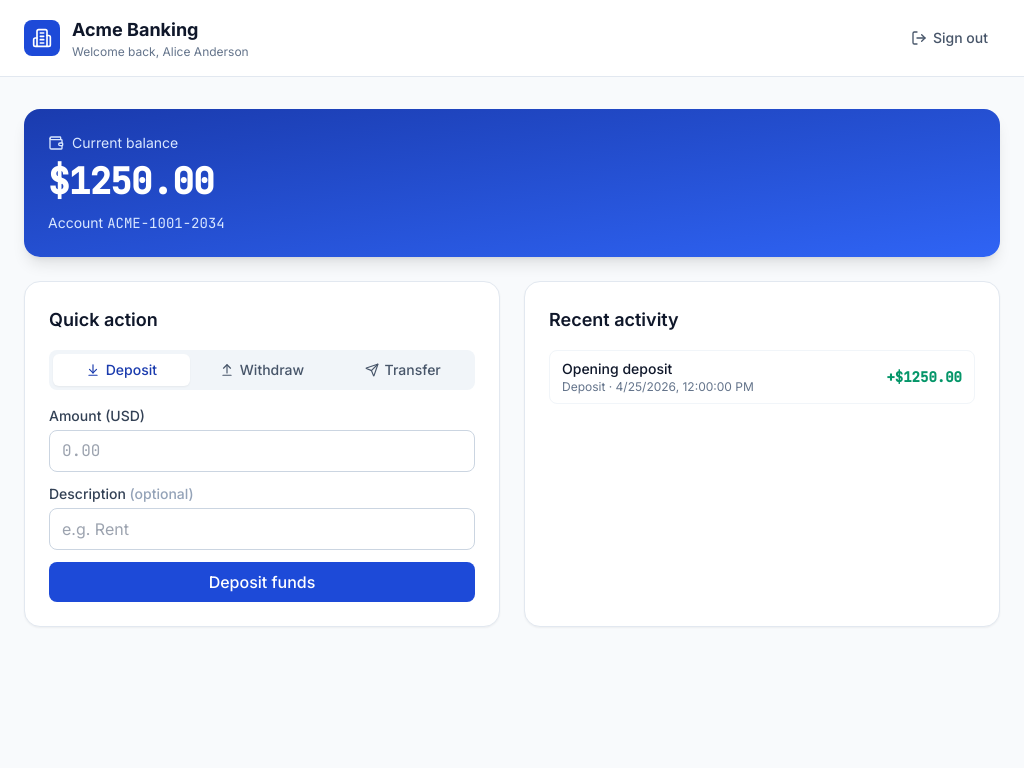
Test: <Dashboard /> tab switching › reveals the recipient input only on the Transfer tab
Check: the text "Opening deposit" is shown, box [562,360,672,377]
Check: the field labelled "recipient account" is not shown
Click the button "Transfer". click: coordinates (403, 370)
box: [334,354,471,386]
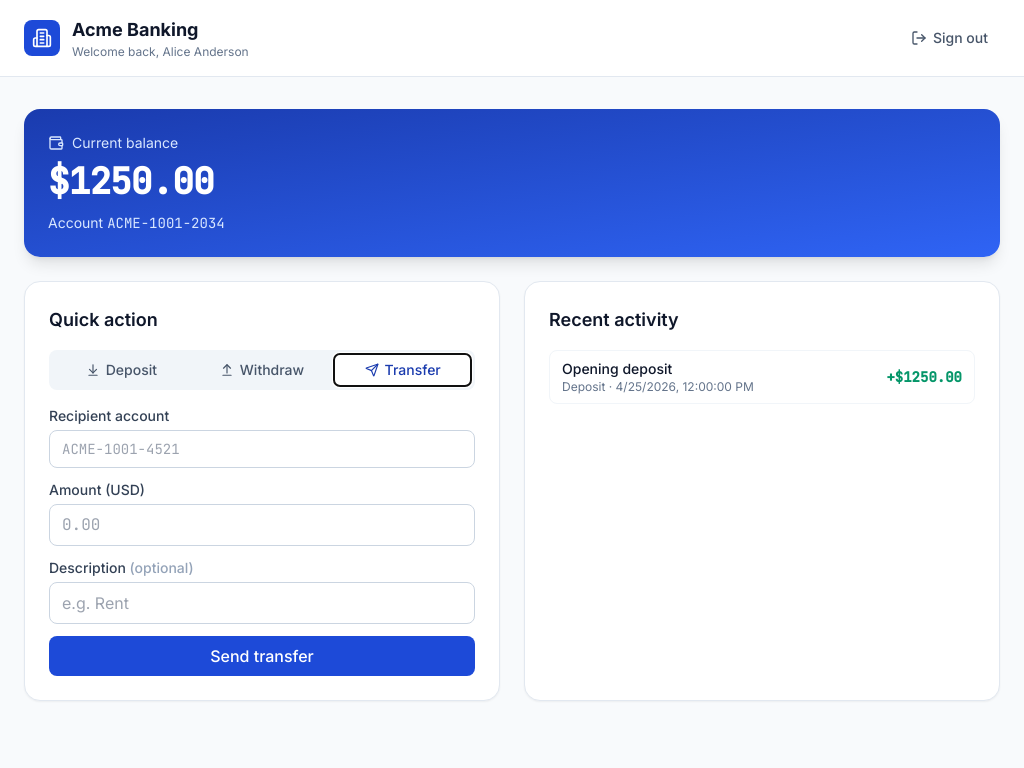
Check: the field labelled "Recipient account" is shown, box [49,430,475,468]
Click the button "Deposit". click: coordinates (121, 370)
box: [53,354,190,386]
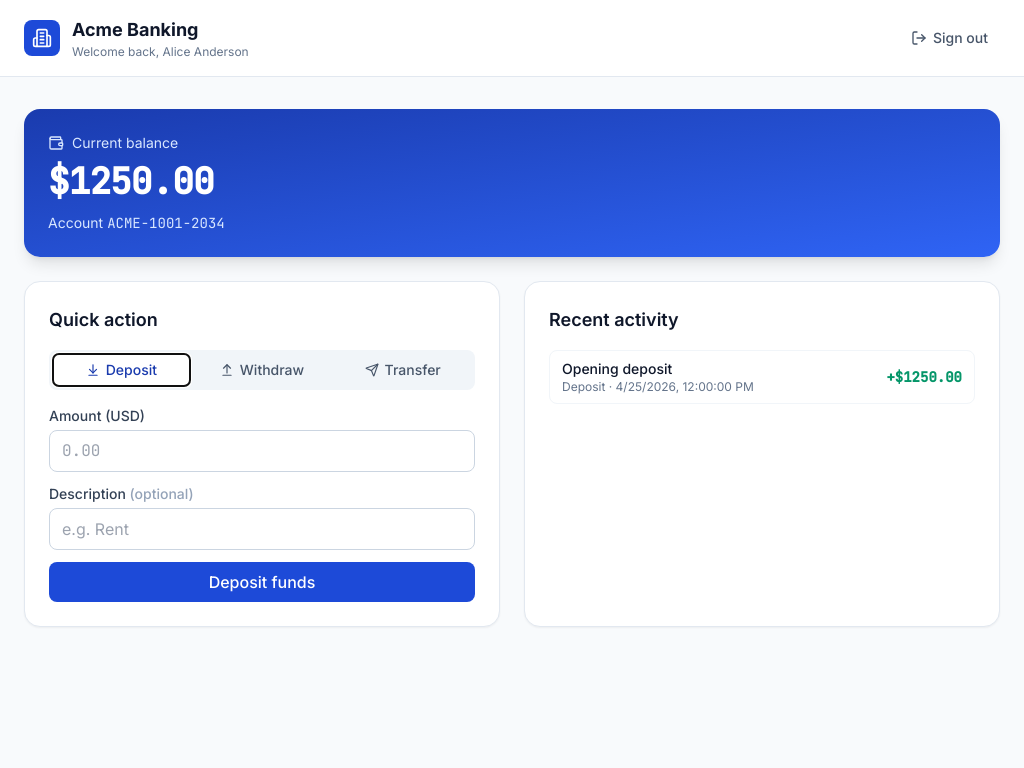
Check: the label labelled "Recipient account" is gone
